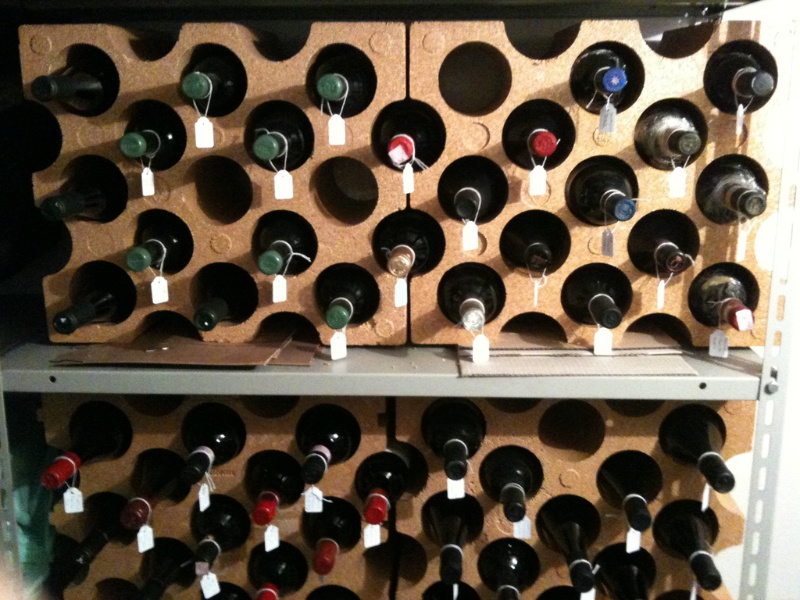wine: (22, 22, 771, 360), (23, 406, 739, 600)
